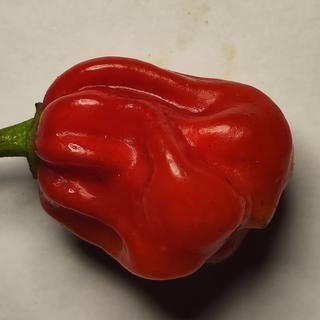Grade-A: (22, 45, 296, 283)
